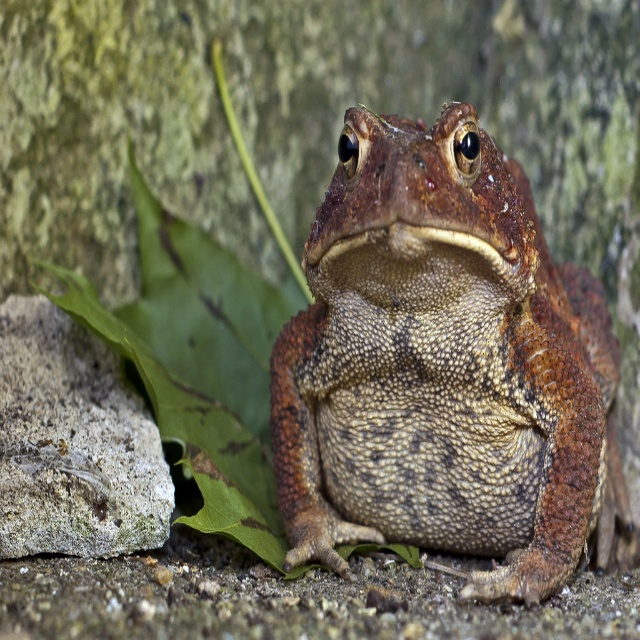Frog: (269, 98, 633, 608)
